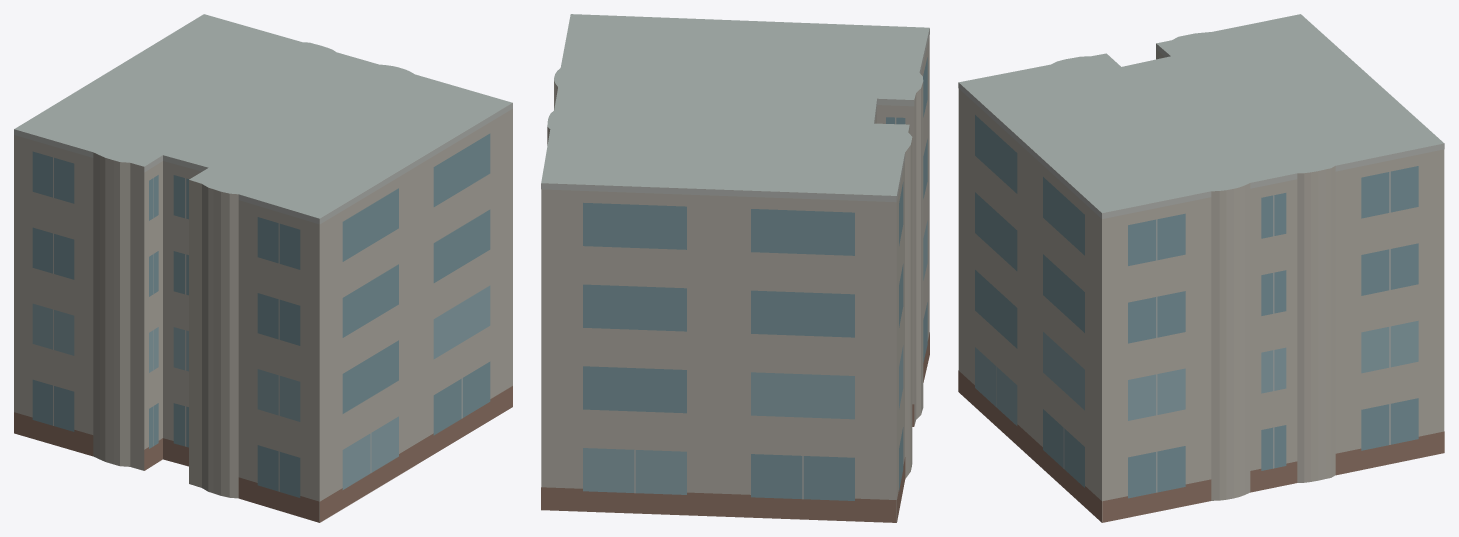
The model's file is survey-upis-32707203.glb.
The picture shows the model from 3 angles, left to right: view 1: azimuth 30°, elevation 25°; view 2: azimuth 150°, elevation 25°; view 3: azimuth 270°, elevation 25°; orthographic projection. The views are drawn at different scales.
Parts seen in each view (by area): view 1: survey-upis-32707203.tmp; view 2: survey-upis-32707203.tmp; view 3: survey-upis-32707203.tmp.
Boxes of the visible parts, box(x1,y1,x2,y2) form: survey-upis-32707203.tmp: box(14, 14, 512, 522); survey-upis-32707203.tmp: box(541, 14, 929, 522); survey-upis-32707203.tmp: box(958, 14, 1444, 522).
Bounding box in the file's own units: 17.67 × 12.8 × 18.22.
